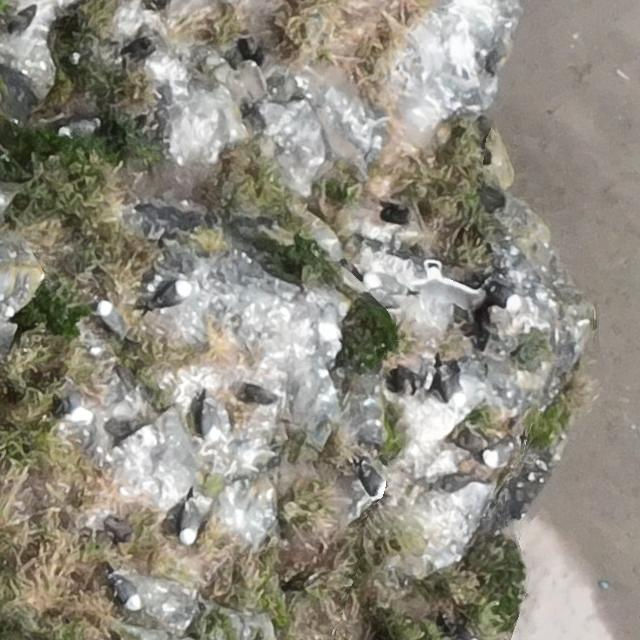F: (412, 261, 483, 314)
umineko: (110, 572, 142, 612), (484, 279, 524, 311), (363, 270, 414, 295), (54, 117, 104, 140), (439, 368, 468, 407), (156, 279, 194, 308), (198, 405, 224, 445), (319, 303, 342, 343), (180, 502, 200, 544), (63, 396, 93, 421), (362, 466, 386, 497), (486, 443, 514, 466), (98, 302, 119, 331)
